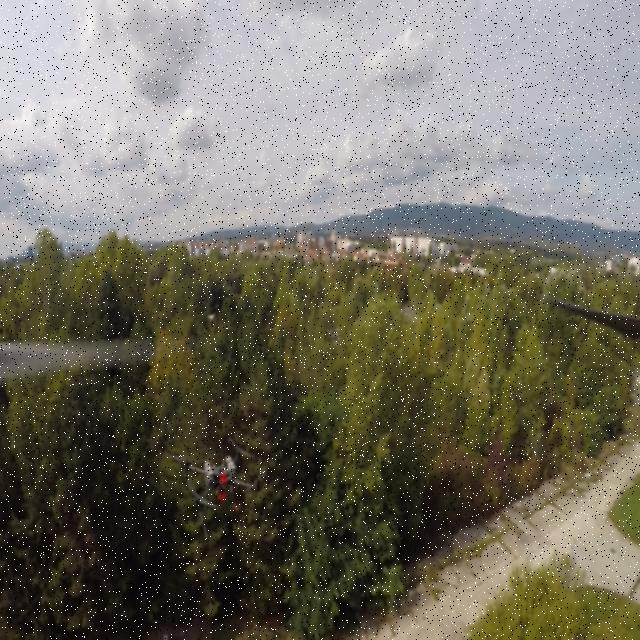UAV: (172, 437, 264, 543)
